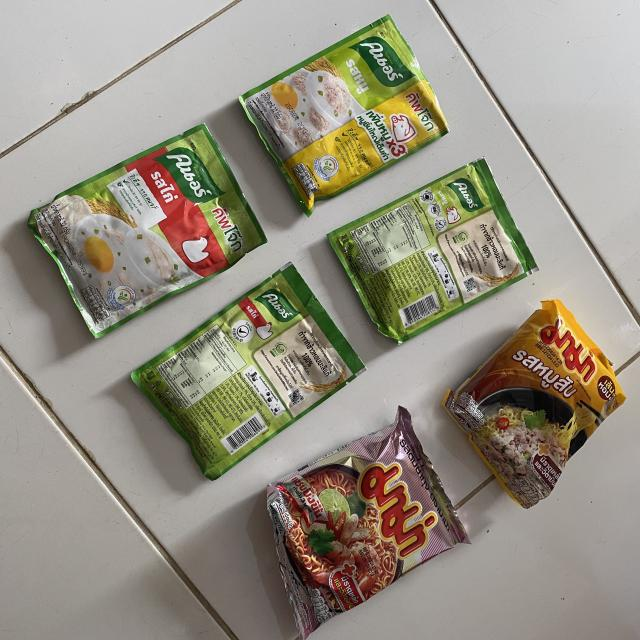plastik: (131, 262, 365, 480), (29, 124, 266, 338), (268, 406, 469, 640), (240, 15, 449, 215), (328, 159, 538, 342), (442, 300, 625, 509)
